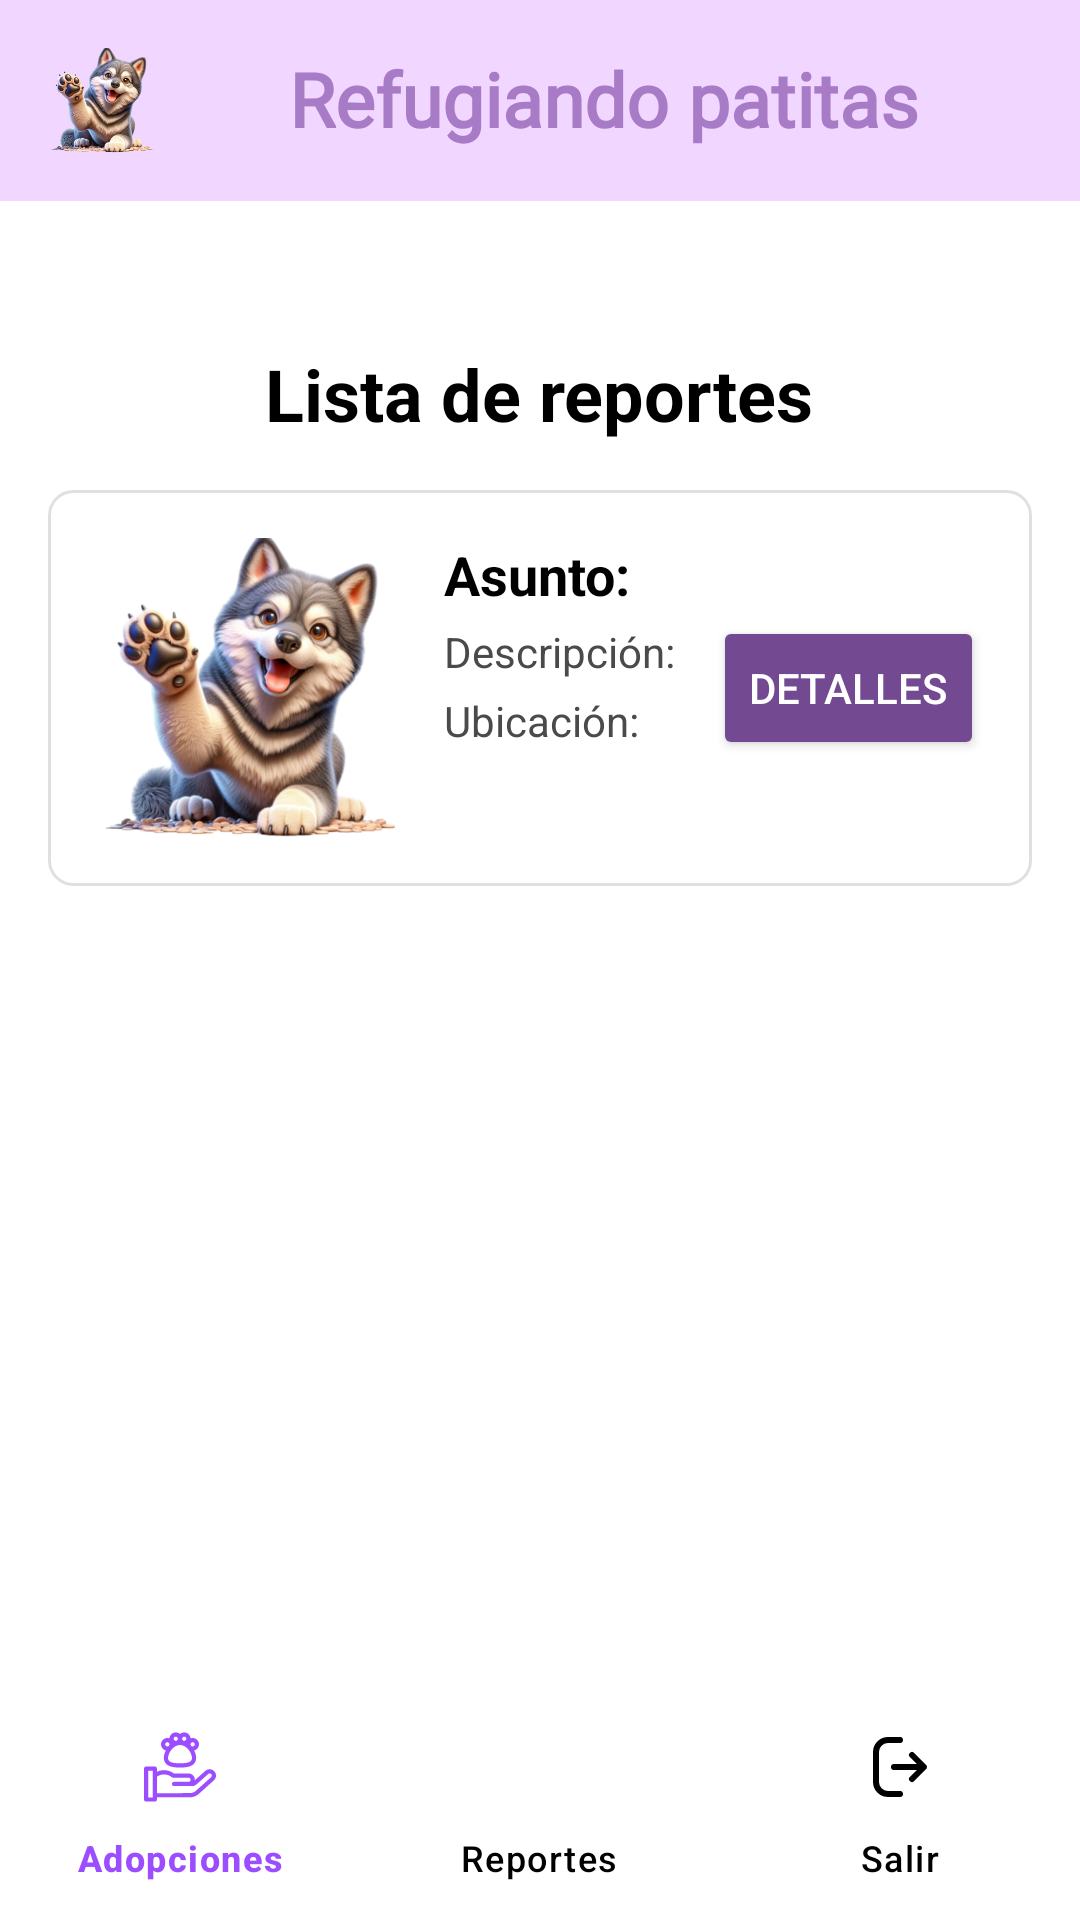

Named icons in this screenshot (1080px×1920px) and their centers, (x,y):
perro: (102,100), (250,687)
